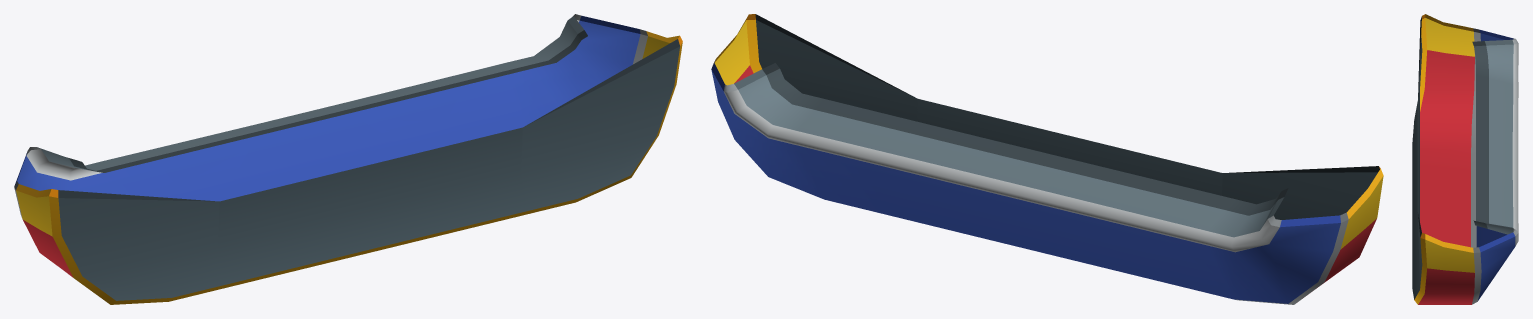
The model's file is Car_10_RearBumper_Simple.fbx.
The picture shows the model from 3 angles, left to right: view 1: azimuth 30°, elevation 25°; view 2: azimuth 150°, elevation 25°; view 3: azimuth 270°, elevation 25°; orthographic projection. The views are drawn at different scales.
Visible parts, largest first — view 1: Car_10_RearBumper_Simple; view 2: Car_10_RearBumper_Simple; view 3: Car_10_RearBumper_Simple.
Boxes of the visible parts, x1,y1,x2,y2 form: Car_10_RearBumper_Simple: (14, 14, 682, 304); Car_10_RearBumper_Simple: (711, 14, 1383, 304); Car_10_RearBumper_Simple: (1412, 14, 1518, 304).
Bounding box in the file's own units: 245 × 49.72 × 49.83.
